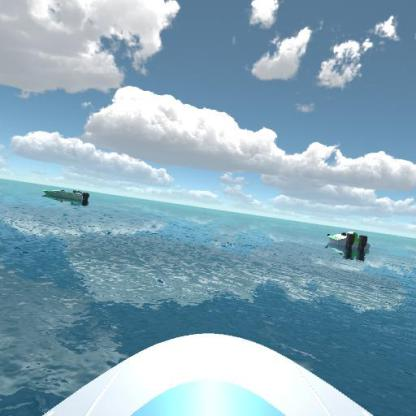usv0: (323, 224, 375, 260), (42, 181, 94, 210)
